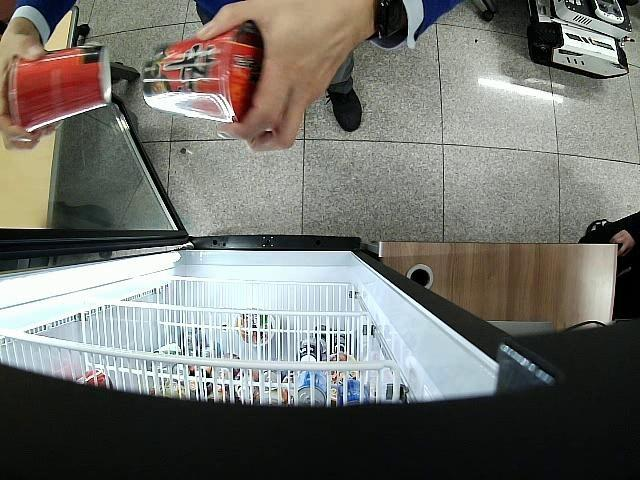02_shinRamen_S: (140, 28, 264, 122), (8, 43, 112, 133)
